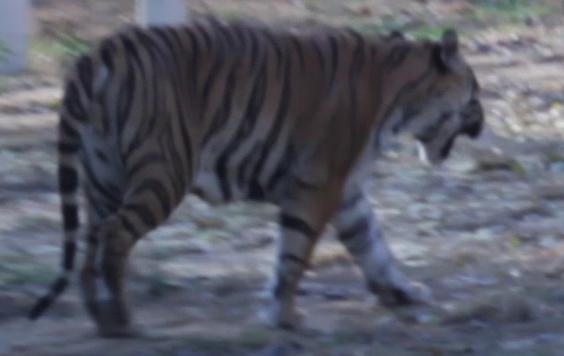tiger: (58, 14, 483, 335)
